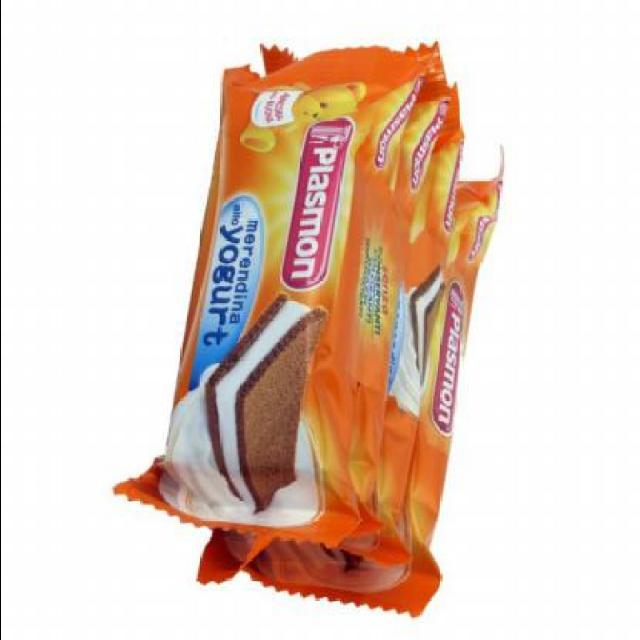Merendine: (110, 23, 427, 569)
